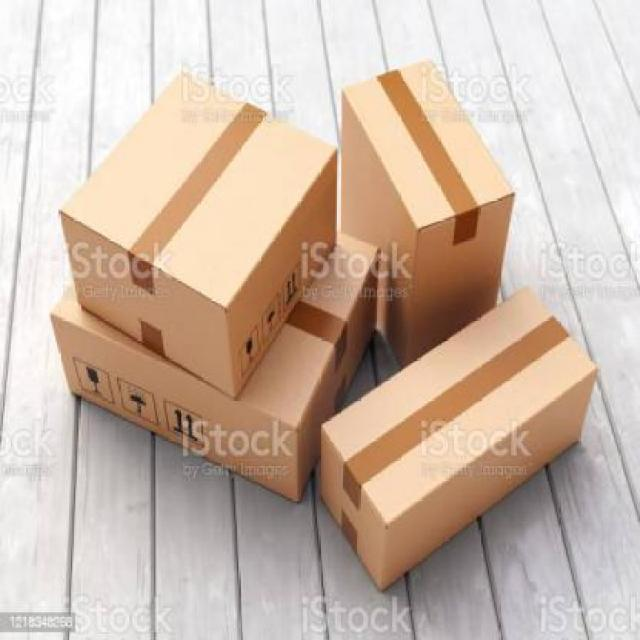box: (49, 227, 384, 505), (57, 61, 340, 390), (313, 280, 589, 600), (331, 53, 514, 379)
